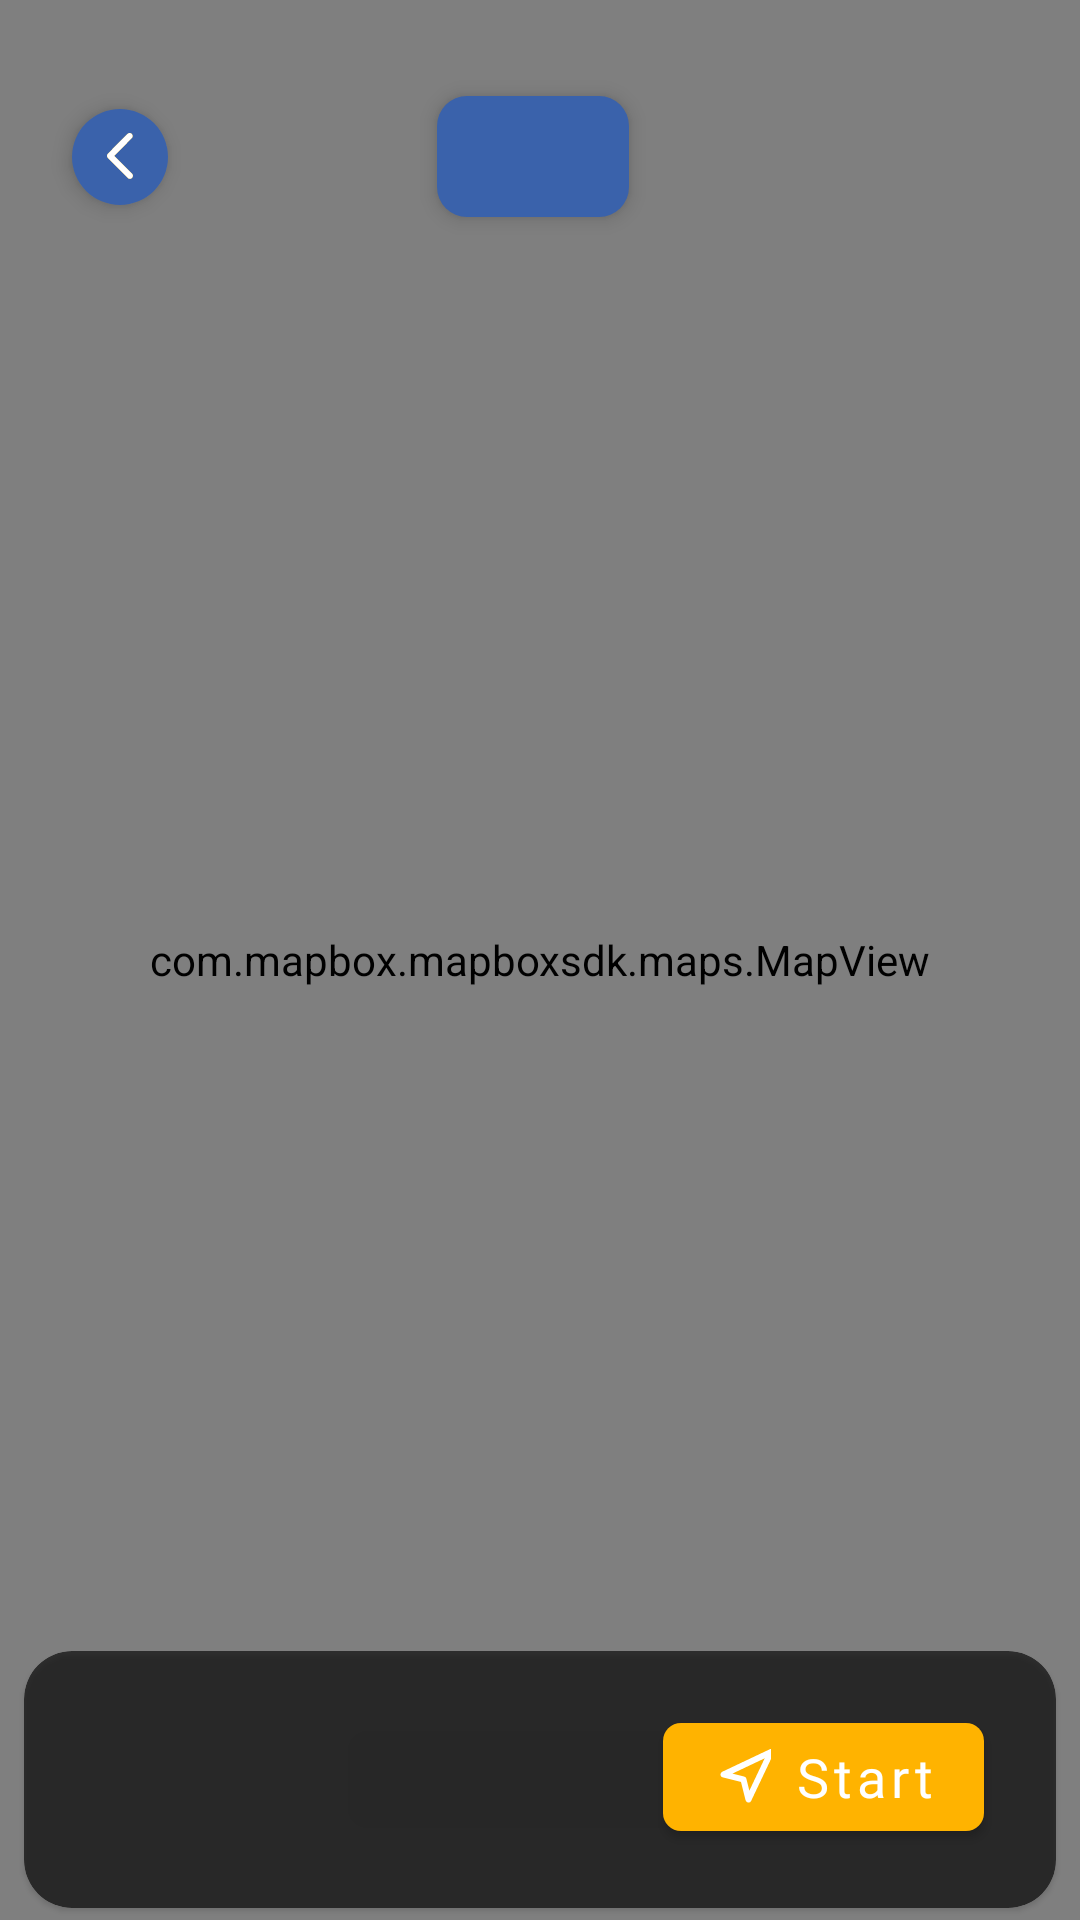

Locate icon controls on the screen. Image size 1080 x 1920, boxes as (x1, y1, x2, y2).
back: (72, 109, 168, 205)
